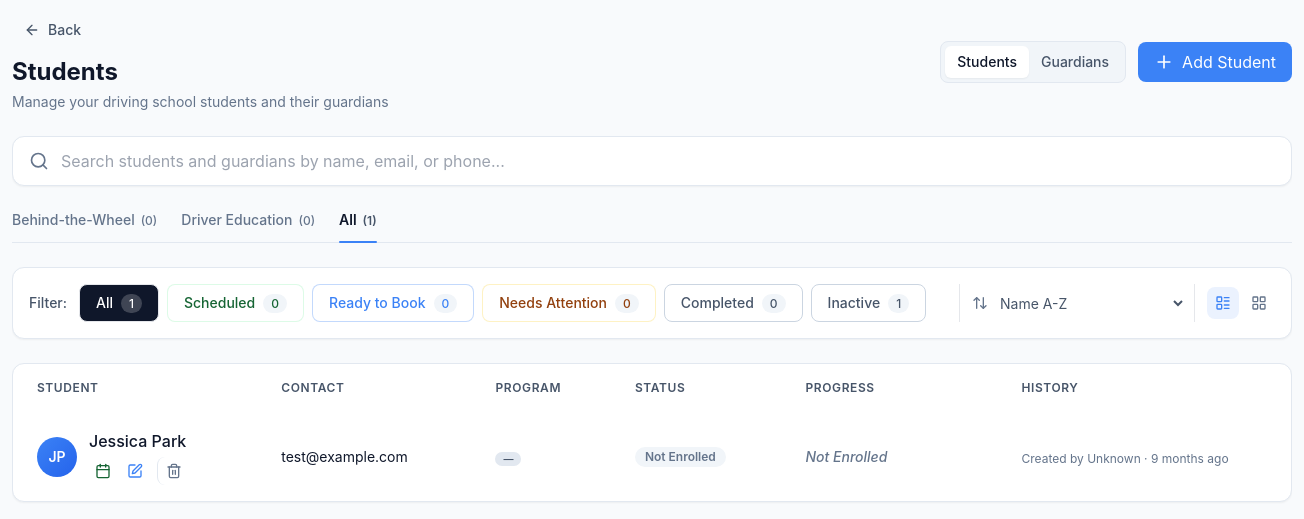
Test case: Students page - Guardians tab › shows the Students list by default and switches to the Guardians list on toggle click
Expected: the text "Jessica Park" is shown, [89,429,186,453]
Click the button "Guardians" at (1075, 62), box [1029,46,1121,78]
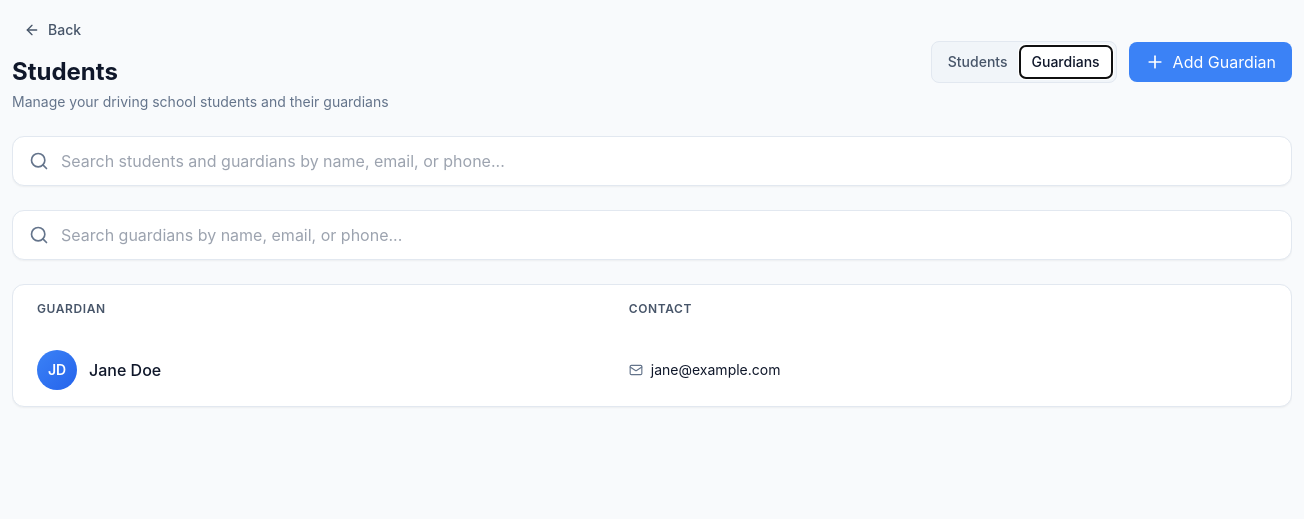
Now the text "Jane Doe" is shown, box [89,358,161,382]
Now the text "Jessica Park" is gone
